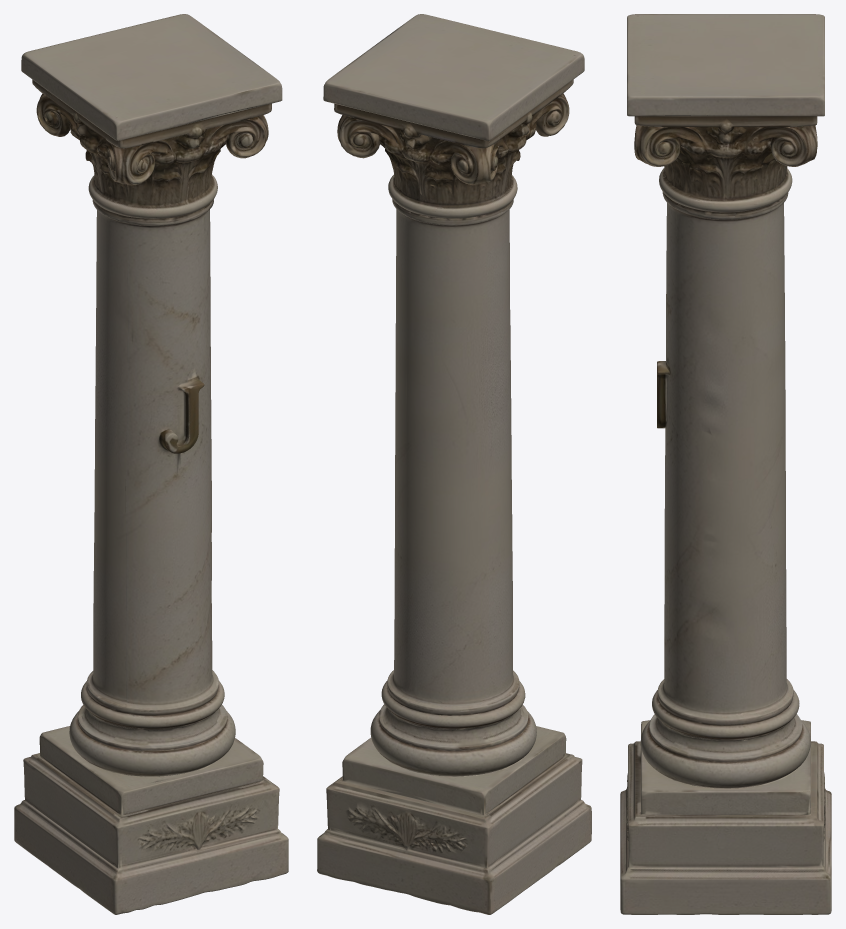
File: jachin.glb
3 renders of one model, left to right at view 1: azimuth 30°, elevation 25°; view 2: azimuth 150°, elevation 25°; view 3: azimuth 270°, elevation 25°, orthographic. The views are drawn at different scales.
Visible parts, largest first — view 1: node_0; view 2: node_0; view 3: node_0.
Boxes of the visible parts, x1,y1,x2,y2 form: node_0: (14, 14, 288, 914); node_0: (317, 14, 591, 914); node_0: (620, 14, 831, 914).
Size of the model in its own units: 0.2648 by 1.14 by 0.2681.
Materials: 1 (1 with a texture image).
